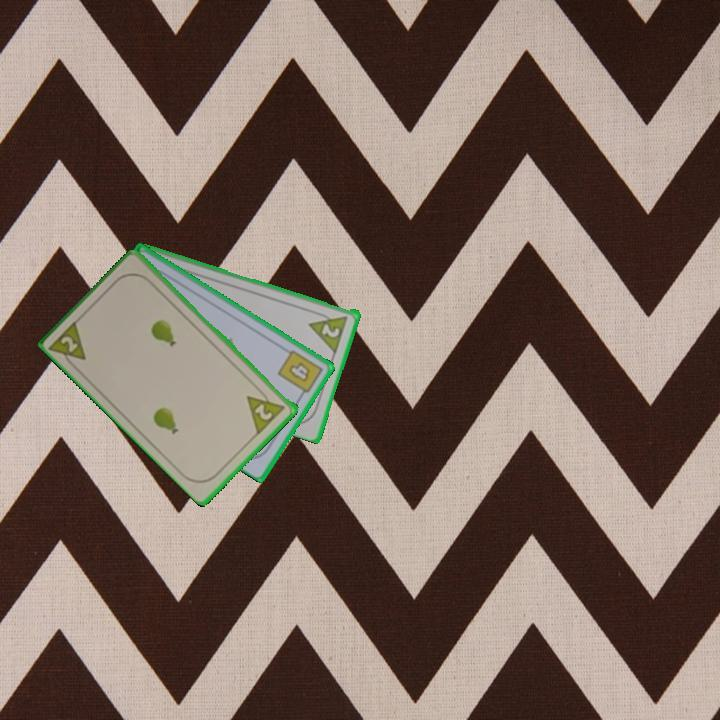2p: (46, 316, 90, 373), (306, 307, 351, 354), (251, 400, 276, 423)
4b: (274, 346, 326, 401)
